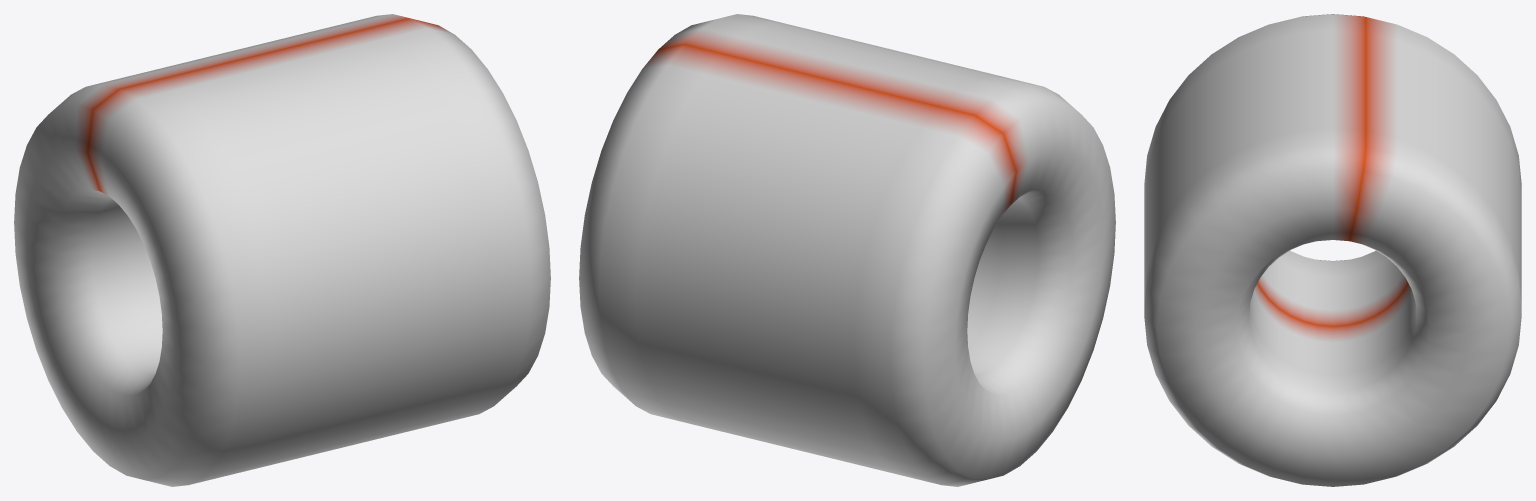
File: broom_base.fbx
The picture shows the model from 3 angles, left to right: view 1: azimuth 30°, elevation 25°; view 2: azimuth 150°, elevation 25°; view 3: azimuth 270°, elevation 25°; orthographic projection. The views are drawn at different scales.
Parts seen in each view (by area): view 1: base; view 2: base; view 3: base.
Boxes of the visible parts, x1=… form: base: x1=14, y1=14, x2=550, y2=486; base: x1=579, y1=14, x2=1115, y2=486; base: x1=1144, y1=14, x2=1521, y2=486.
Size of the model in its own units: 19.1 by 18.73 by 18.73.
